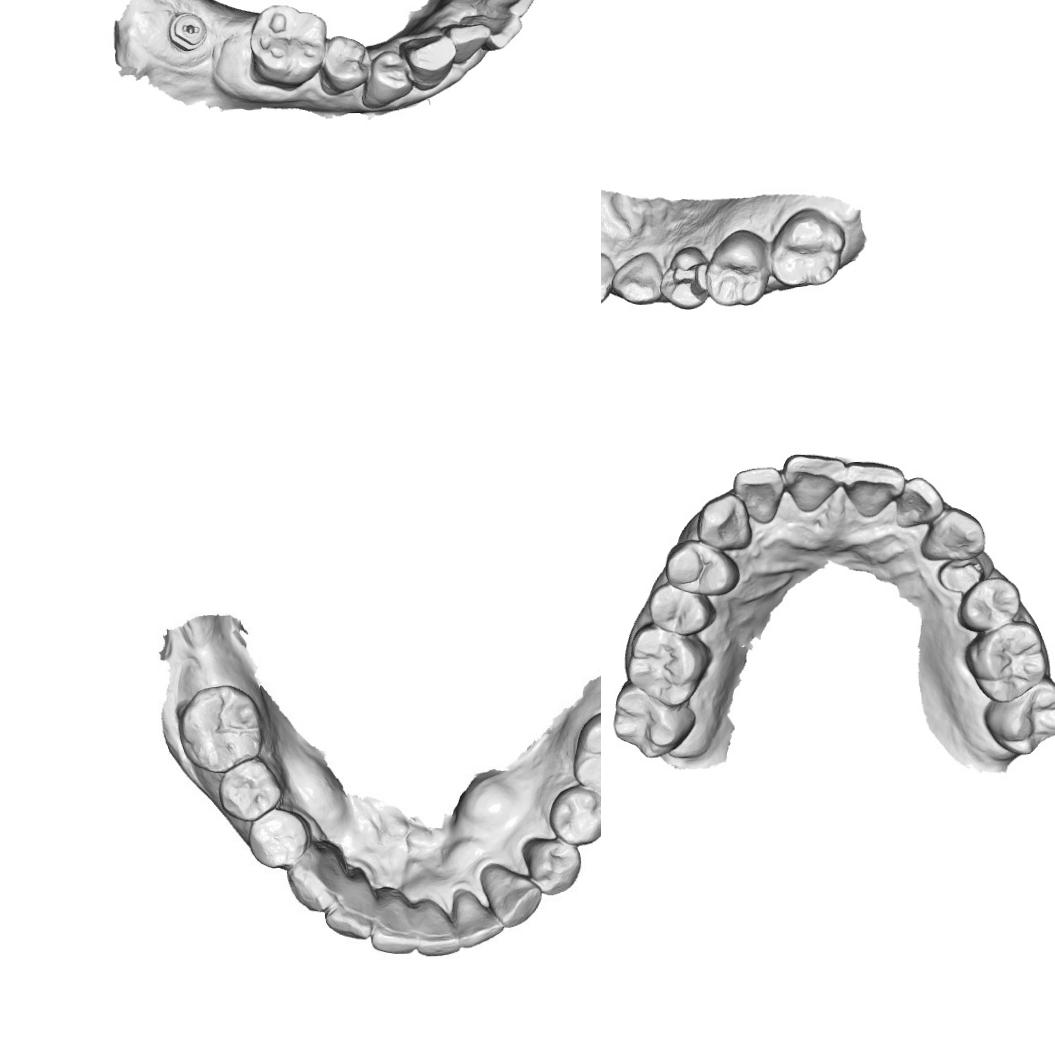canine: (288, 840, 344, 914), (918, 508, 986, 564), (693, 492, 757, 550), (399, 34, 458, 91), (482, 862, 538, 922), (608, 250, 665, 306)
implant_minus: (166, 12, 207, 52)
incisor: (780, 452, 853, 512), (844, 458, 908, 520), (326, 866, 384, 932), (733, 464, 785, 524), (376, 891, 422, 953), (452, 886, 501, 944), (892, 475, 944, 528), (416, 903, 460, 961), (446, 21, 492, 66), (474, 13, 523, 52), (477, 0, 536, 17), (601, 249, 618, 306)
inlay: (667, 256, 708, 302)
molar: (178, 688, 274, 773), (622, 621, 710, 706), (608, 679, 696, 761), (247, 2, 328, 90), (768, 207, 847, 288), (970, 623, 1048, 702), (982, 678, 1055, 758), (703, 226, 772, 308), (572, 714, 601, 796)
premolar: (664, 538, 738, 596), (954, 574, 1022, 634), (645, 584, 718, 638), (525, 837, 587, 898), (219, 762, 279, 820), (359, 48, 413, 109), (318, 35, 369, 96), (250, 807, 300, 866), (549, 789, 601, 840)
